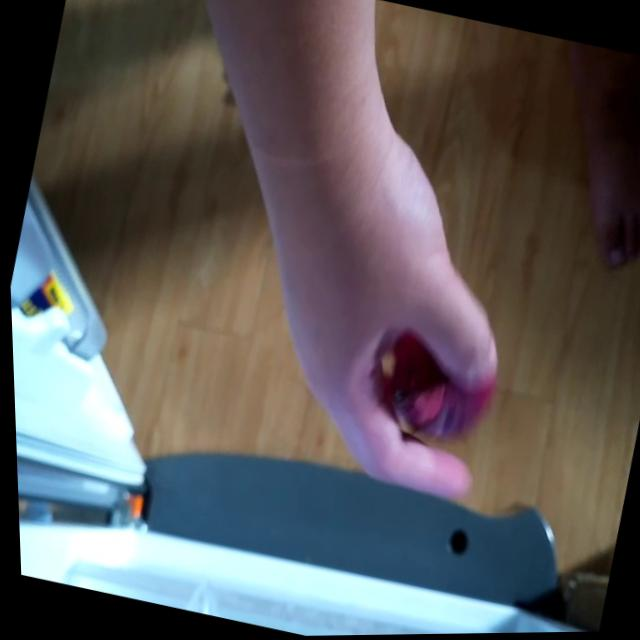onion: (361, 313, 507, 458)
